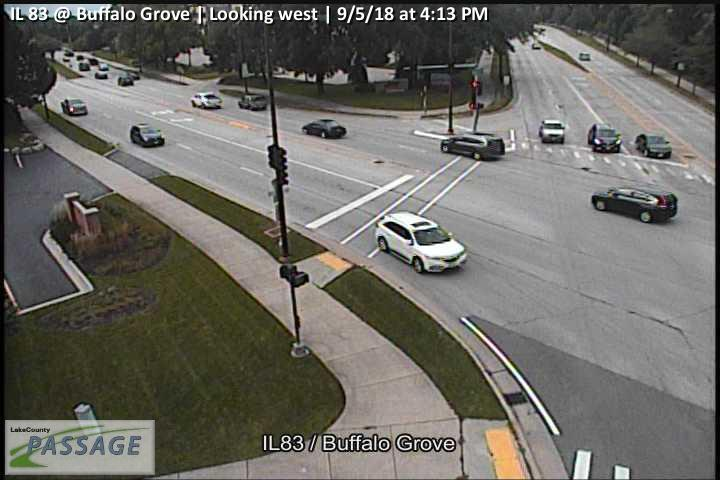SUV: (374, 211, 467, 274), (591, 186, 679, 224), (440, 132, 505, 162), (587, 124, 622, 155), (130, 123, 165, 148), (538, 120, 566, 144), (61, 98, 89, 116)
Sedan: (635, 133, 673, 160), (301, 118, 347, 138), (190, 92, 223, 109)
